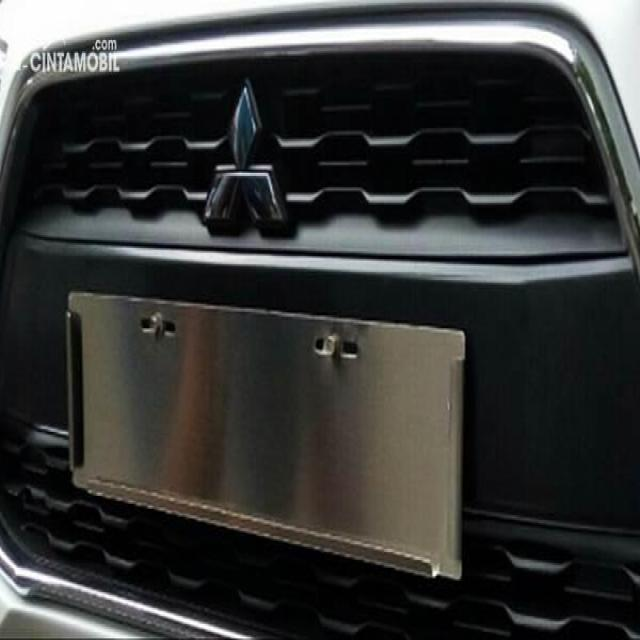lisence-plate: (58, 278, 472, 589)
